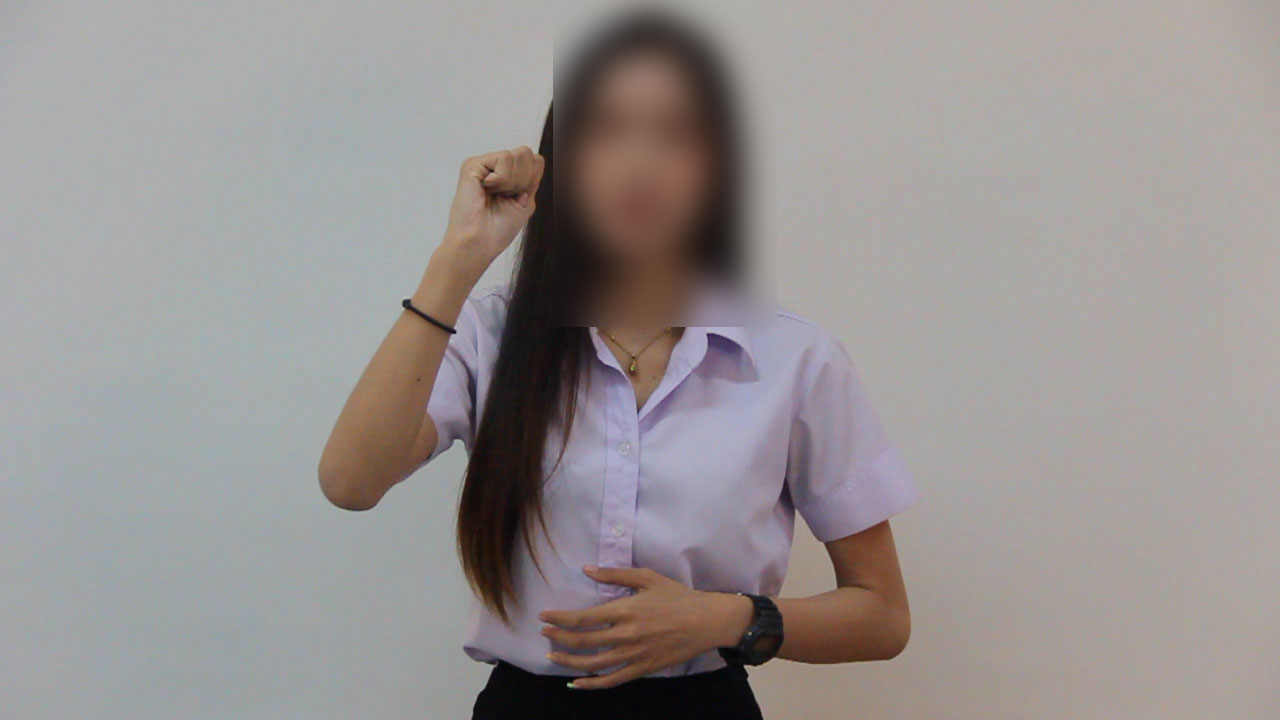sor: (430, 143, 555, 274)
